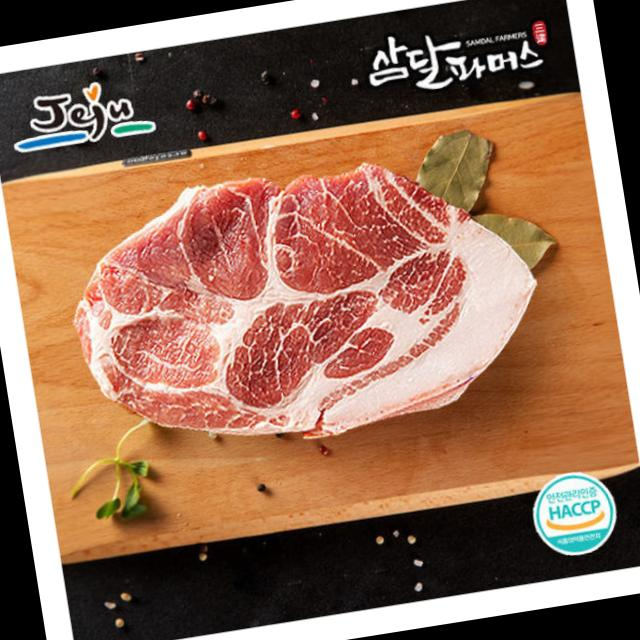pork: (51, 125, 572, 491)
